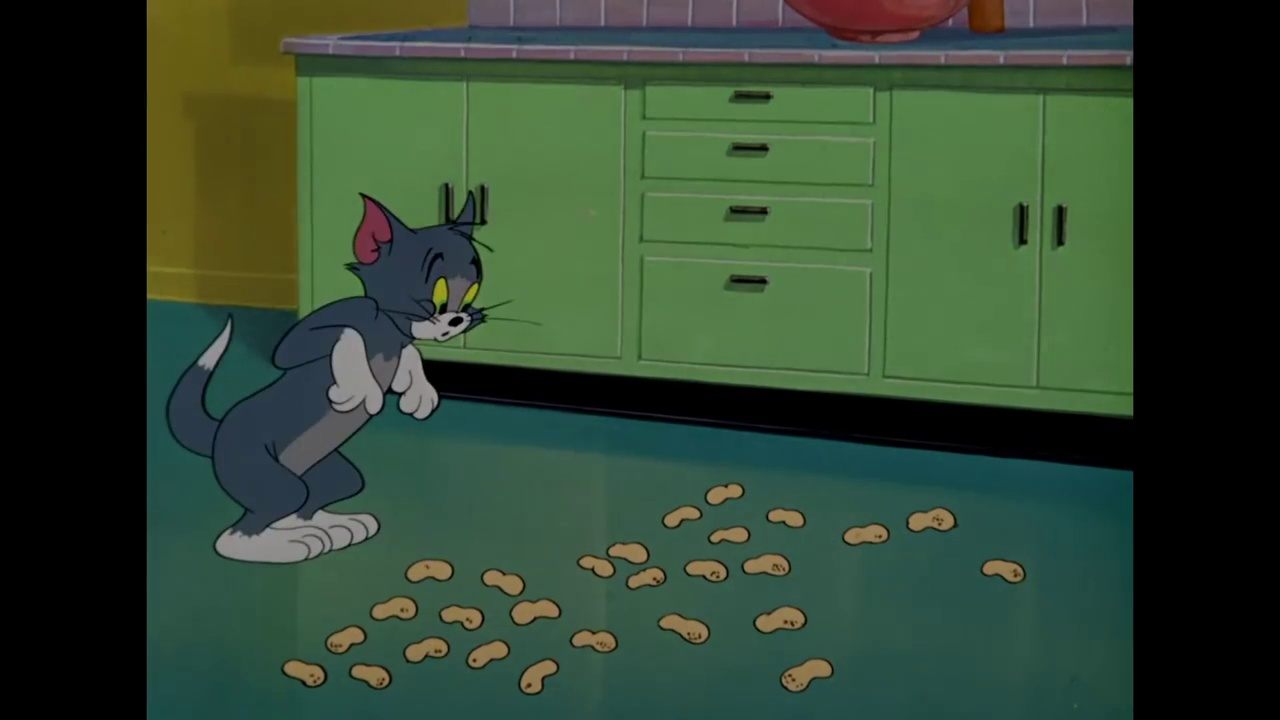tom: (339, 189, 494, 348)
